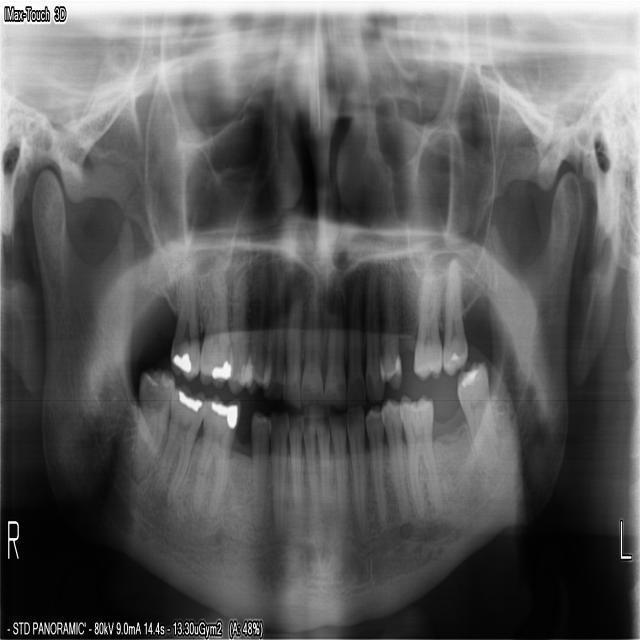LCD: (367, 404, 390, 529)
LCU: (366, 272, 385, 399)
LID: (348, 408, 371, 538), (329, 408, 348, 523)
LIU: (323, 265, 345, 409), (347, 272, 365, 407)
LMD: (400, 392, 449, 517), (456, 359, 501, 473)
LMU: (412, 269, 444, 383), (442, 262, 466, 377)
LPMD: (380, 398, 412, 525)
LPMU: (382, 269, 402, 392)
RCD: (288, 407, 303, 523)
RCU: (262, 268, 285, 400)
RID: (301, 410, 320, 515), (315, 415, 334, 510)
RIU: (301, 274, 324, 409), (284, 277, 302, 414)
RMD: (146, 383, 205, 499), (193, 394, 240, 518), (129, 365, 178, 483)
RMU: (198, 250, 232, 390), (166, 259, 200, 385)
RPMD: (267, 408, 287, 542), (249, 408, 270, 530)
RPMU: (244, 268, 267, 400), (225, 262, 247, 398)
